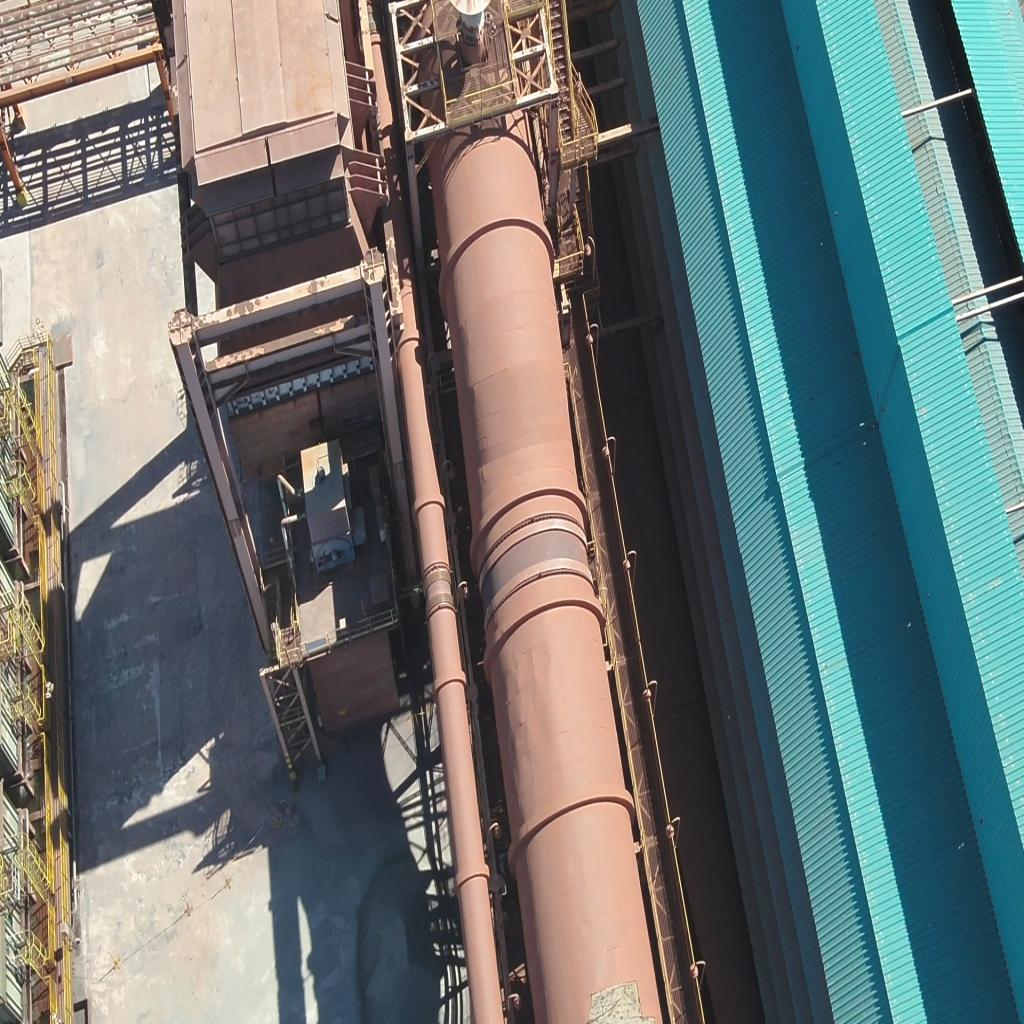Failures: (585, 983, 655, 1024)
